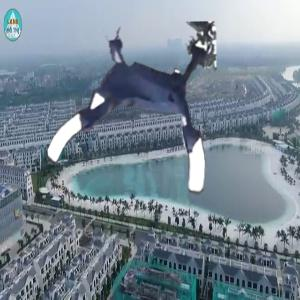drone: (44, 23, 220, 199)
